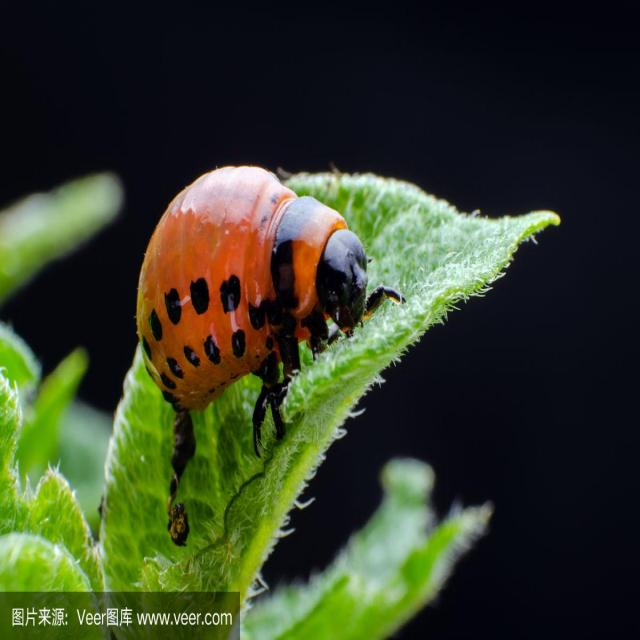ShuCaiHuaBanChong-Larva-: (115, 150, 399, 432)
